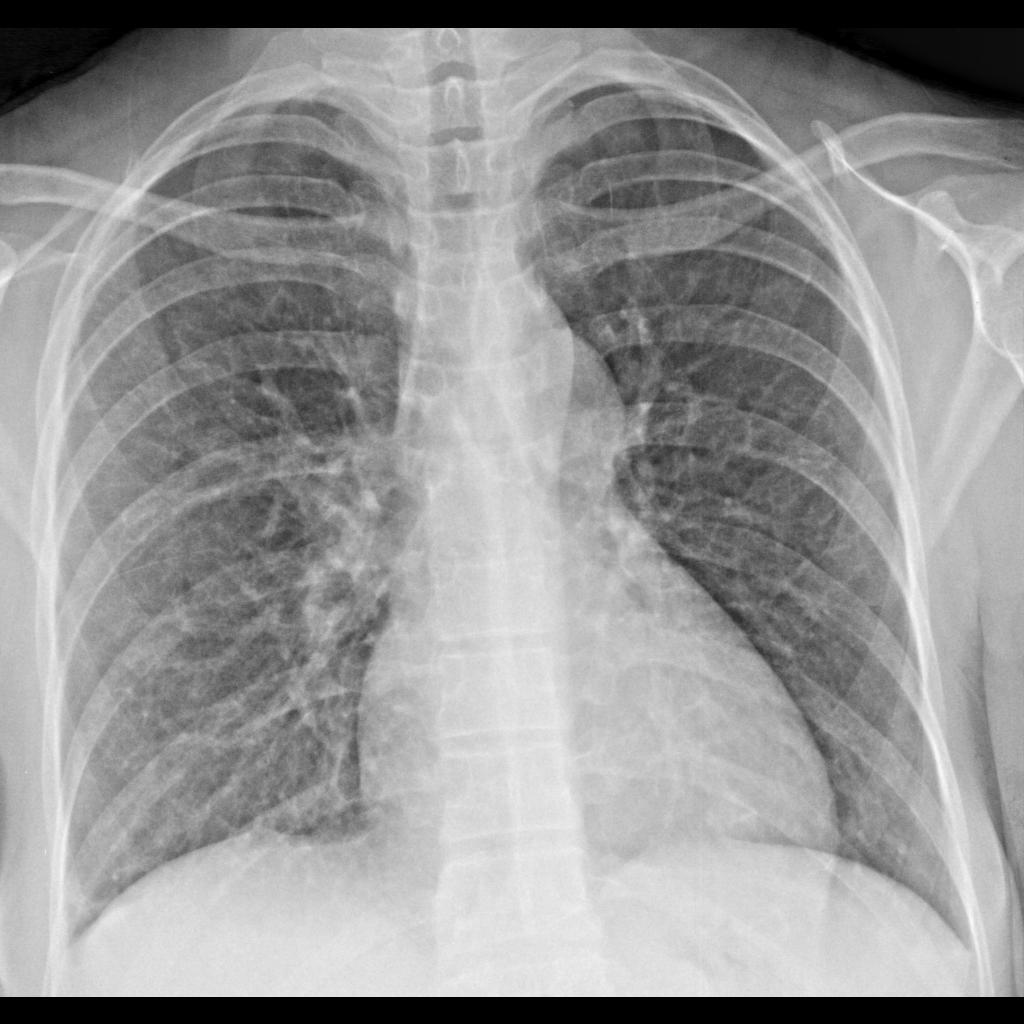Nodule: (709, 786, 761, 838)
